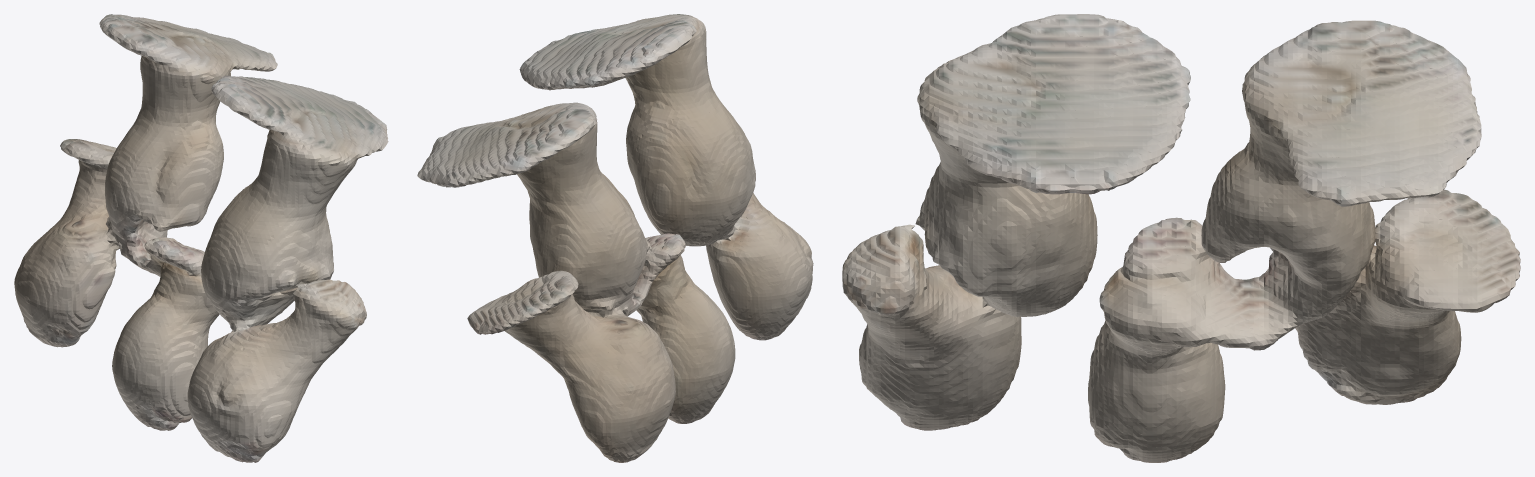
The model's file is busts.glb.
3 views of the same model, side by side, from view 1: azimuth 30°, elevation 25°; view 2: azimuth 150°, elevation 25°; view 3: azimuth 270°, elevation 25° (orthographic). The views are drawn at different scales.
Size of the model in its own units: 0.5465 by 0.7363 by 0.9544.
